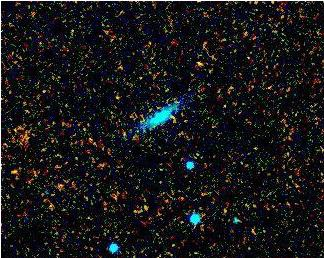star: (186, 46, 216, 76)
